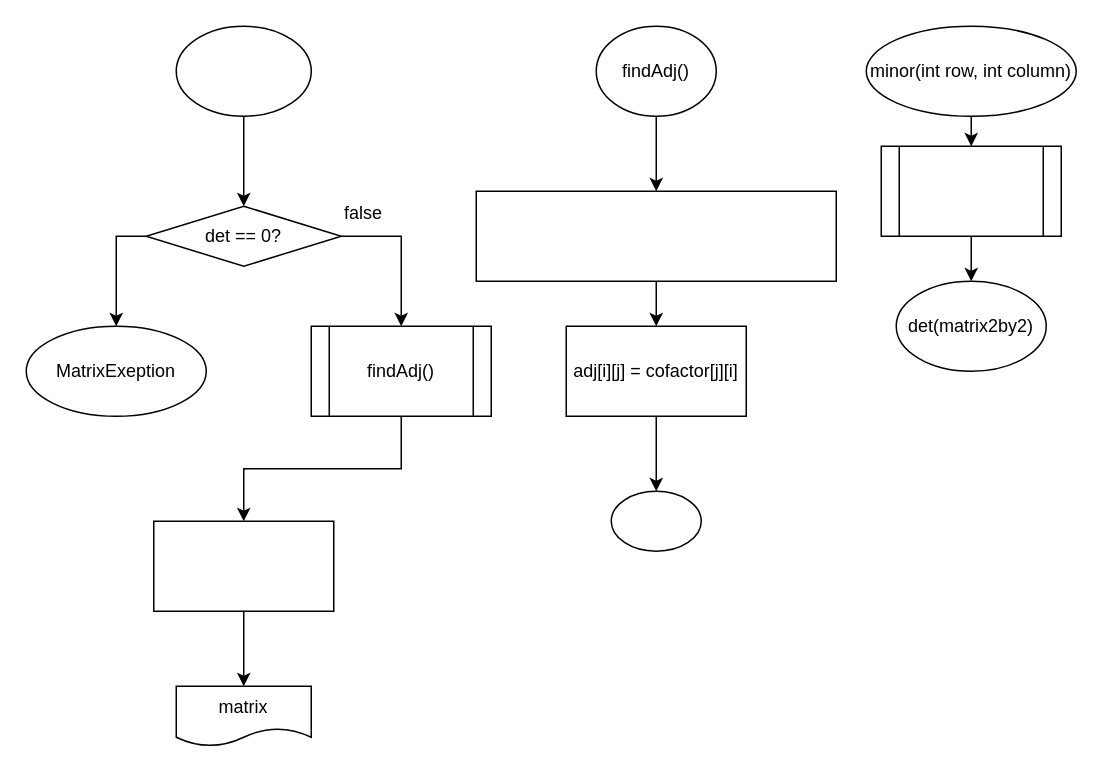
Image size: 1103x773. Some labels were removed from this diagram. Each missing label, with the box of its shape:
adj[i][j] / det: (152, 520, 334, 611)
cofactor[i][j] = (-1)^(i + j) * minor(int i, int j): (475, 190, 836, 281)
inverse(): (175, 25, 311, 116)
matrix2by2 = find: (880, 145, 1061, 236)
